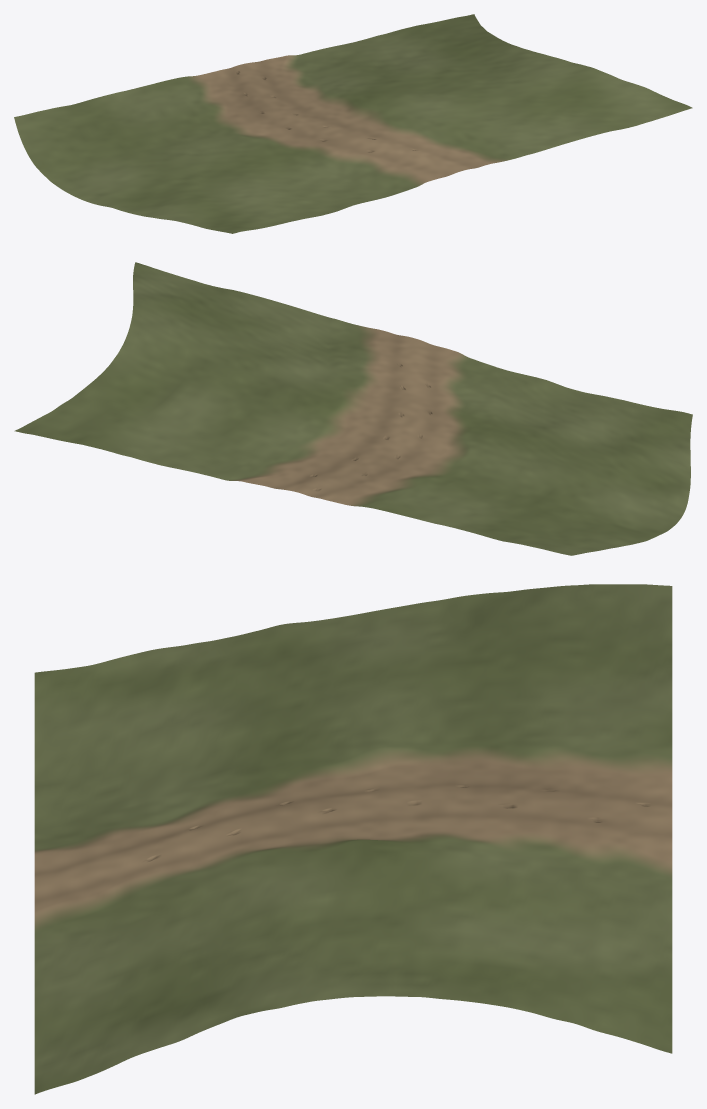
Rendered from terrain_2.glb.
The picture shows the model from 3 angles, top to bottom: view 1: azimuth 30°, elevation 25°; view 2: azimuth 150°, elevation 25°; view 3: azimuth 270°, elevation 25°; orthographic projection. The views are drawn at different scales.
Parts seen in each view (by area): view 1: CountryTerrain_2; view 2: CountryTerrain_2; view 3: CountryTerrain_2.
Part boxes in pixels (<box>): CountryTerrain_2: <box>14,14,692,233</box>; CountryTerrain_2: <box>14,262,692,555</box>; CountryTerrain_2: <box>34,584,672,1094</box>.
Size of the model in its own units: 23.5 by 1.46 by 12.
